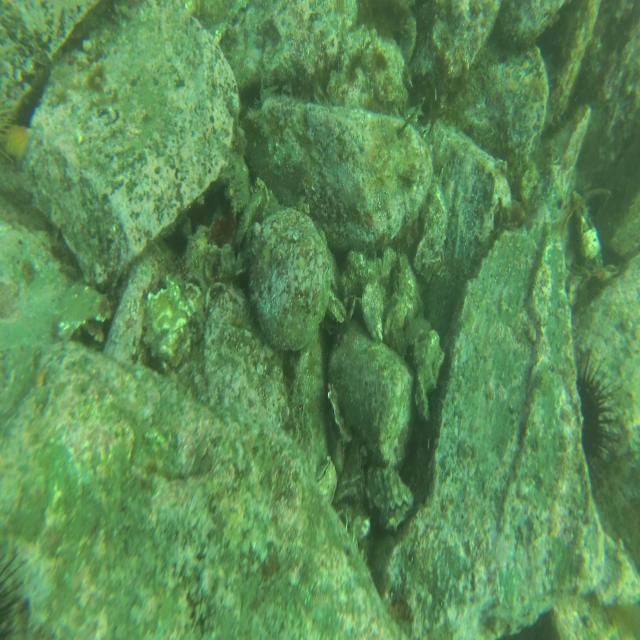echinus: (569, 348, 620, 478)
